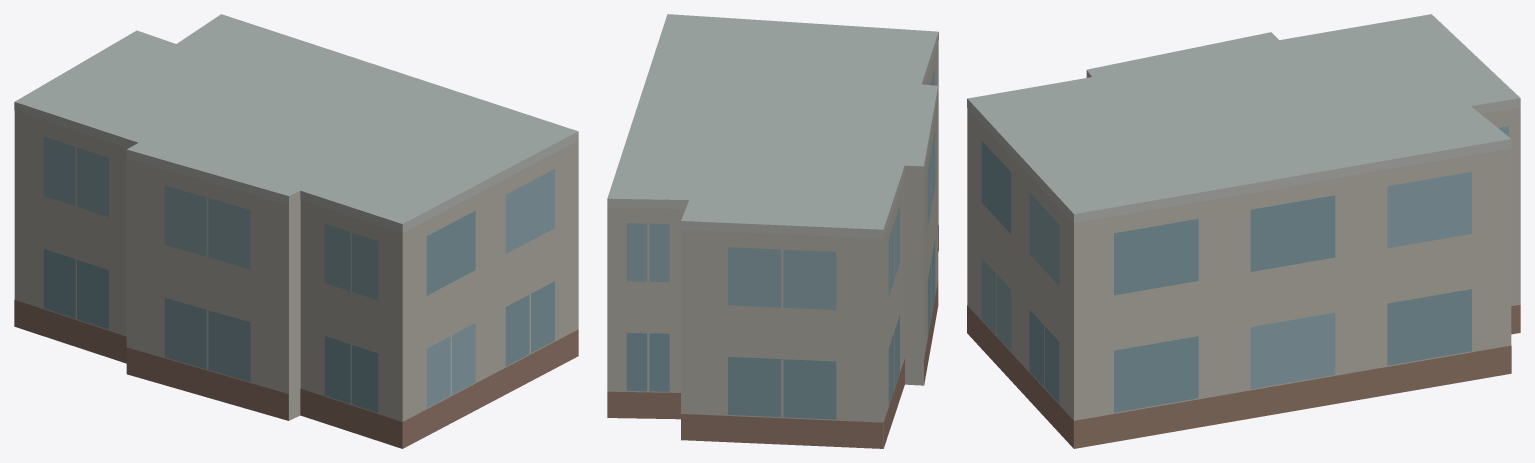
The model's file is survey-upis-32732459.glb.
3 renders of one model, left to right at view 1: azimuth 30°, elevation 25°; view 2: azimuth 150°, elevation 25°; view 3: azimuth 270°, elevation 25°, orthographic. The views are drawn at different scales.
Parts seen in each view (by area): view 1: survey-upis-32732459.tmp; view 2: survey-upis-32732459.tmp; view 3: survey-upis-32732459.tmp.
Part boxes in pixels (box(x1,y1,x2,y2)): survey-upis-32732459.tmp: box(14, 14, 578, 448); survey-upis-32732459.tmp: box(607, 14, 938, 448); survey-upis-32732459.tmp: box(967, 14, 1520, 448).
Bounding box in the file's own units: 11.17 × 6.1 × 13.05.
